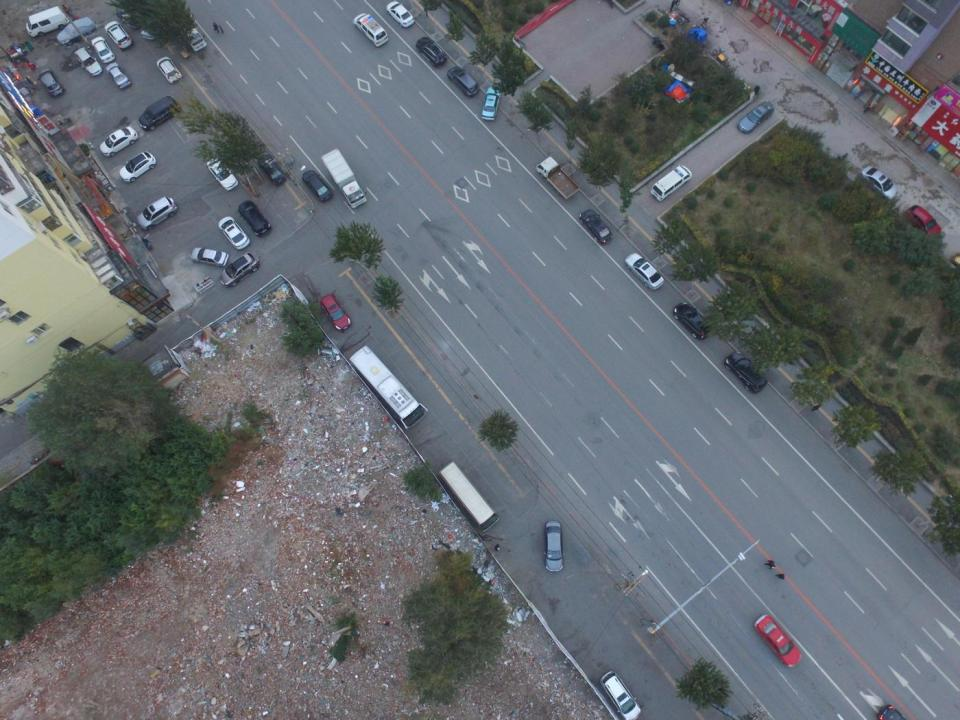bus: (350, 346, 430, 428), (438, 464, 498, 530)
car: (756, 614, 802, 668), (725, 351, 768, 394), (674, 302, 715, 341), (626, 253, 662, 290), (221, 252, 258, 288), (861, 164, 899, 199), (137, 197, 176, 230), (906, 204, 941, 240), (580, 209, 612, 246), (119, 151, 156, 183), (237, 201, 270, 236), (544, 520, 566, 571), (739, 99, 772, 133), (322, 294, 352, 331), (217, 216, 249, 250), (100, 127, 137, 156), (57, 18, 95, 46), (207, 158, 238, 190), (447, 66, 479, 96), (304, 170, 332, 202), (258, 154, 285, 186), (104, 19, 132, 49), (480, 85, 503, 121), (76, 47, 104, 76), (386, 0, 415, 27), (416, 37, 445, 64), (106, 62, 132, 90), (156, 58, 182, 84), (190, 248, 227, 264), (92, 37, 113, 64), (878, 705, 906, 720)
truck: (319, 146, 365, 206), (536, 156, 581, 200), (169, 14, 206, 51)
van: (601, 670, 642, 719), (652, 164, 694, 202), (139, 96, 180, 132), (26, 6, 68, 37), (352, 12, 389, 46), (38, 68, 64, 96), (140, 16, 164, 38)
